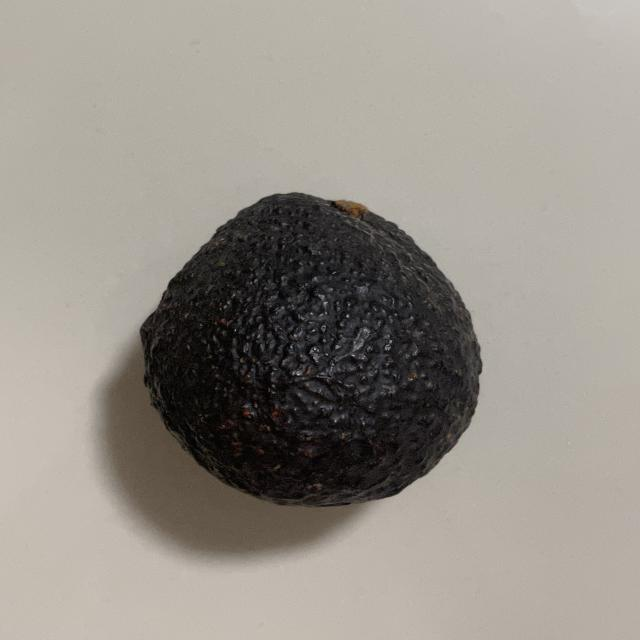Level4: (131, 179, 497, 514)
